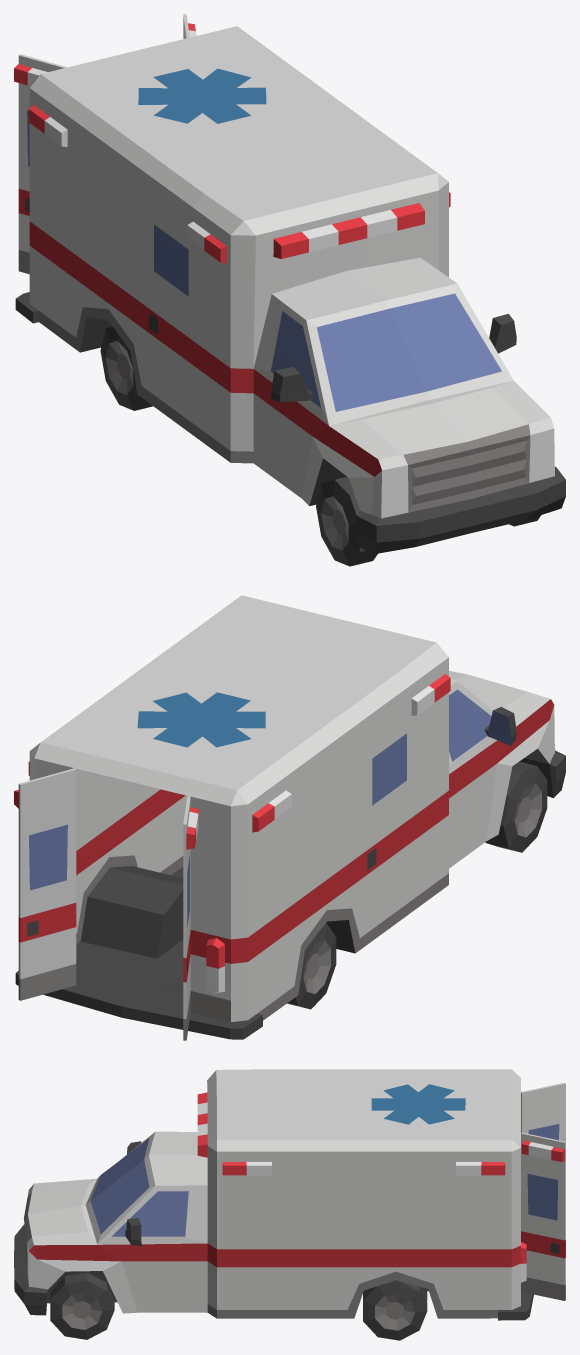
File: ambulance.fbx
3 renders of one model, top to bottom at view 1: azimuth 30°, elevation 25°; view 2: azimuth 150°, elevation 25°; view 3: azimuth 270°, elevation 25°, orthographic. The views are drawn at different scales.
Parts seen in each view (by area): view 1: car-ambulance-pickup-base, car-ambulance-pickup-wheel_FR, car-ambulance-pickup-base.001, car-ambulance-pickup-wheel_BR; view 2: car-ambulance-pickup-base, car-ambulance-pickup-base.001, car-ambulance-pickup-wheel_FR, car-ambulance-pickup-wheel_BR; view 3: car-ambulance-pickup-base, car-ambulance-pickup-base.001, car-ambulance-pickup-wheel_FL, car-ambulance-pickup-wheel_BL, car-ambulance-pickup-base.002.
Boxes of the visible parts, x1,y1,x2,y2 form: car-ambulance-pickup-base: [15, 26, 565, 554]; car-ambulance-pickup-wheel_FR: [316, 477, 377, 566]; car-ambulance-pickup-base.001: [18, 14, 189, 274]; car-ambulance-pickup-wheel_BR: [100, 326, 152, 410]; car-ambulance-pickup-base: [15, 595, 565, 1039]; car-ambulance-pickup-base.001: [18, 768, 190, 1040]; car-ambulance-pickup-wheel_FR: [485, 761, 547, 852]; car-ambulance-pickup-wheel_BR: [287, 923, 336, 1009]; car-ambulance-pickup-base: [14, 1069, 533, 1320]; car-ambulance-pickup-base.001: [521, 1082, 565, 1300]; car-ambulance-pickup-wheel_FL: [50, 1272, 114, 1339]; car-ambulance-pickup-wheel_BL: [363, 1280, 427, 1340]; car-ambulance-pickup-base.002: [521, 1140, 564, 1161].
Bounding box in the file's own units: 243 × 266 × 659.
